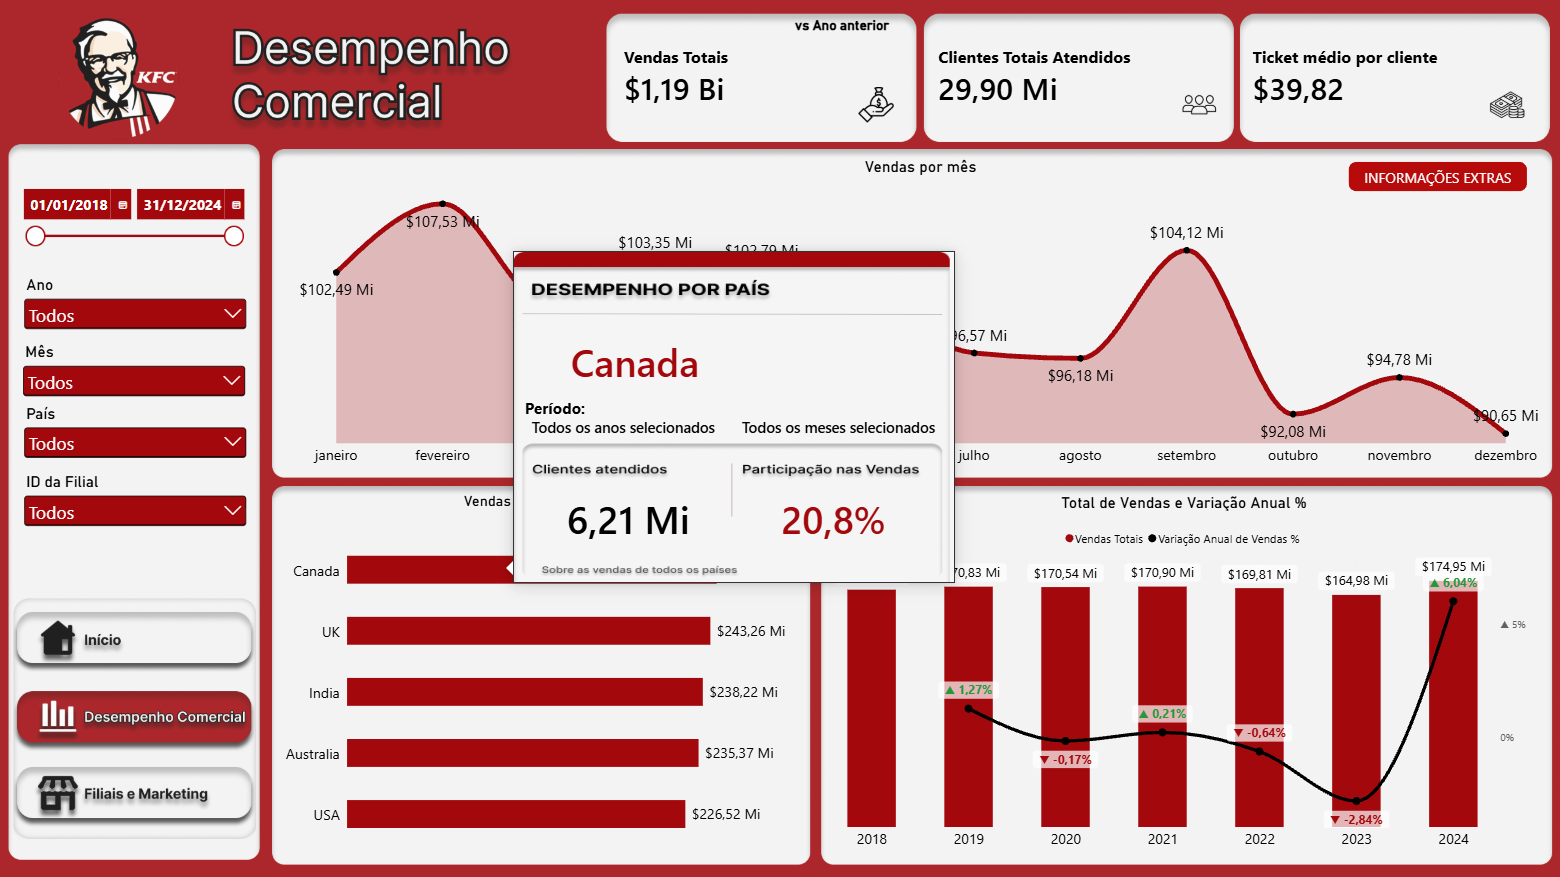

Layout of this report page (visuals, bound fields, positions):
{"tool":"powerbi","page":{"name":"Desempenho Comercial","canvas":[1920,1080],"ordinal":1},"visuals":[{"type":"lineChart","title":"Vendas  por mês","fields":{"Category":["dCalendario.Mês"],"Y":["Medidas.Vendas Totais"]},"box":[345,180.9,1573.3,412.8],"z":0},{"type":"cardVisual","fields":{"Data":["Medidas.Vendas Totais","Medidas.Clientes Totais","Medidas.Receita por Cliente"]},"box":[750.7,20.6,1150.2,152.8],"z":1000},{"type":"barChart","title":"Vendas Totais por País","fields":{"Category":["Conjunto de dados de vendas globais do KFC (2018–2024).País","Conjunto de dados de vendas globais do KFC (2018–2024).ID da Filial"],"Y":["Medidas.Vendas Totais"]},"box":[327.6,593.5,665.5,474.5],"z":2000},{"type":"lineStackedColumnComboChart","title":"Total de Vendas e Variação Anual % ","fields":{"Category":["dCalendario.Ano"],"Y":["Medidas.Vendas Totais"],"Y2":["Medidas.Variação Anual de Vendas %"]},"box":[1006.3,593.5,896.1,473],"z":3000},{"type":"cardVisual","title":"vs Ano anterior","fields":{"Data":["Medidas.Vendas Ano Atual vs Ano Anterior"]},"box":[950.5,23.5,168.9,88.1],"z":4000},{"type":"image","box":[1022.4,108.7,108.7,44.1],"z":5000},{"type":"image","box":[1814.2,108.7,76.4,44.1],"z":6000},{"type":"image","box":[1435.2,108.7,76.4,44.1],"z":7000},{"type":"actionButton","box":[23.3,758,280.9,56.5],"z":8000},{"type":"actionButton","box":[19.9,949.2,284.3,58.2],"z":9000},{"type":"slicer","fields":{"Values":["Conjunto de dados de vendas globais do KFC (2018–2024).ID da Filial"]},"box":[24,581.1,283.5,85.2],"z":10000},{"type":"slicer","fields":{"Values":["Conjunto de dados de vendas globais do KFC (2018–2024).País"]},"box":[24,497.7,283.5,83.7],"z":11000},{"type":"slicer","fields":{"Values":["dCalendario.Ano"]},"box":[24,339.3,283.5,82.3],"z":12000},{"type":"slicer","fields":{"Values":["dCalendario.Data"]},"box":[20.6,227.7,283.5,104.3],"z":13000},{"type":"slicer","fields":{"Values":["dCalendario.Mês Abreviado"]},"box":[22.6,421.3,283.5,82.3],"z":14000},{"type":"actionButton","title":"Botão - INFO","box":[1656.5,200.4,219.3,36.3],"z":17000}]}

Visuals, with their boxes in screenshot pixels (x1, y1, x2, y2), scaled from the page's 1920x1080 canvas onto the 1560x877 screenshot:
"Vendas  por mês" lineChart: bbox=(280, 147, 1559, 482)
cardVisual - Medidas.Vendas Totais x Medidas.Clientes Totais: bbox=(610, 17, 1544, 141)
"Vendas Totais por País" barChart: bbox=(266, 482, 807, 867)
"Total de Vendas e Variação Anual % " lineStackedColumnComboChart: bbox=(818, 482, 1546, 866)
"vs Ano anterior" cardVisual: bbox=(772, 19, 910, 91)
image: bbox=(831, 88, 919, 124)
image: bbox=(1474, 88, 1536, 124)
image: bbox=(1166, 88, 1228, 124)
actionButton: bbox=(19, 616, 247, 661)
actionButton: bbox=(16, 771, 247, 818)
slicer - Conjunto de dados de vendas globais do KFC (2018–2024).ID da Filial: bbox=(20, 472, 250, 541)
slicer - Conjunto de dados de vendas globais do KFC (2018–2024).País: bbox=(20, 404, 250, 472)
slicer - dCalendario.Ano: bbox=(20, 276, 250, 342)
slicer - dCalendario.Data: bbox=(17, 185, 247, 270)
slicer - dCalendario.Mês Abreviado: bbox=(18, 342, 249, 409)
"Botão - INFO" actionButton: bbox=(1346, 163, 1524, 192)
